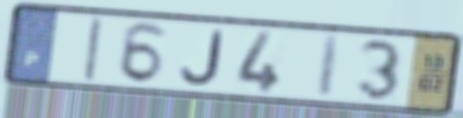3: (356, 38, 406, 102)
4: (234, 28, 285, 96)
6: (115, 21, 169, 86)
I: (315, 32, 346, 101), (81, 14, 106, 84)
J: (178, 28, 227, 87)
